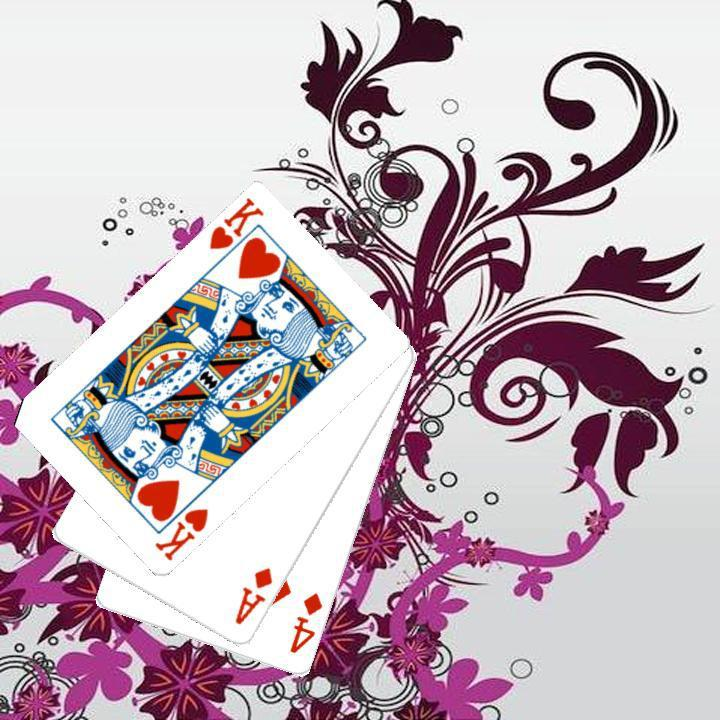4: (285, 589, 325, 656)
A: (230, 563, 275, 628)
K: (150, 504, 211, 564), (204, 194, 266, 253)
